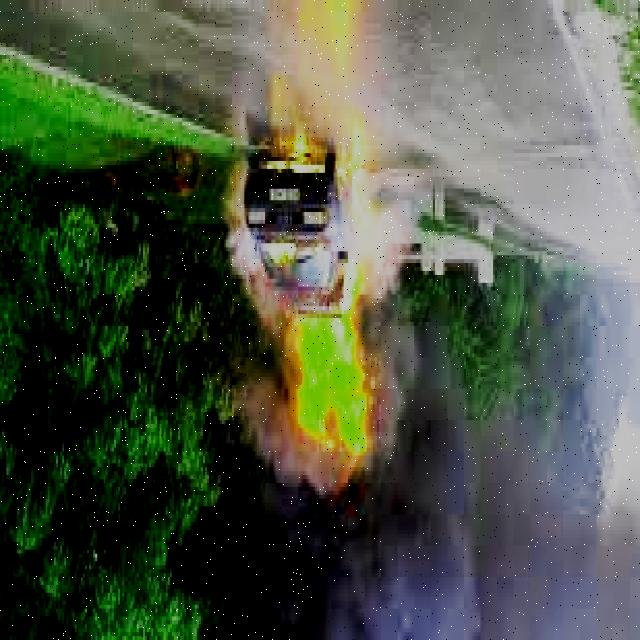api: (256, 323, 380, 457), (331, 143, 393, 319), (252, 143, 328, 190), (260, 233, 302, 280)
